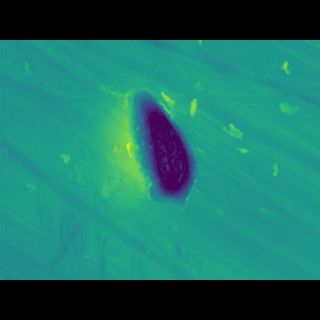Loch: (0, 91, 320, 121), (117, 101, 205, 201)
